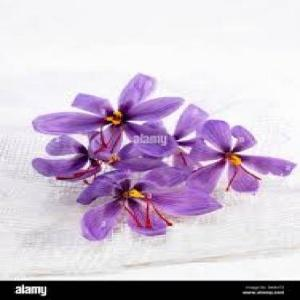Saffron: (32, 72, 181, 159), (80, 167, 208, 247), (185, 122, 296, 196)
